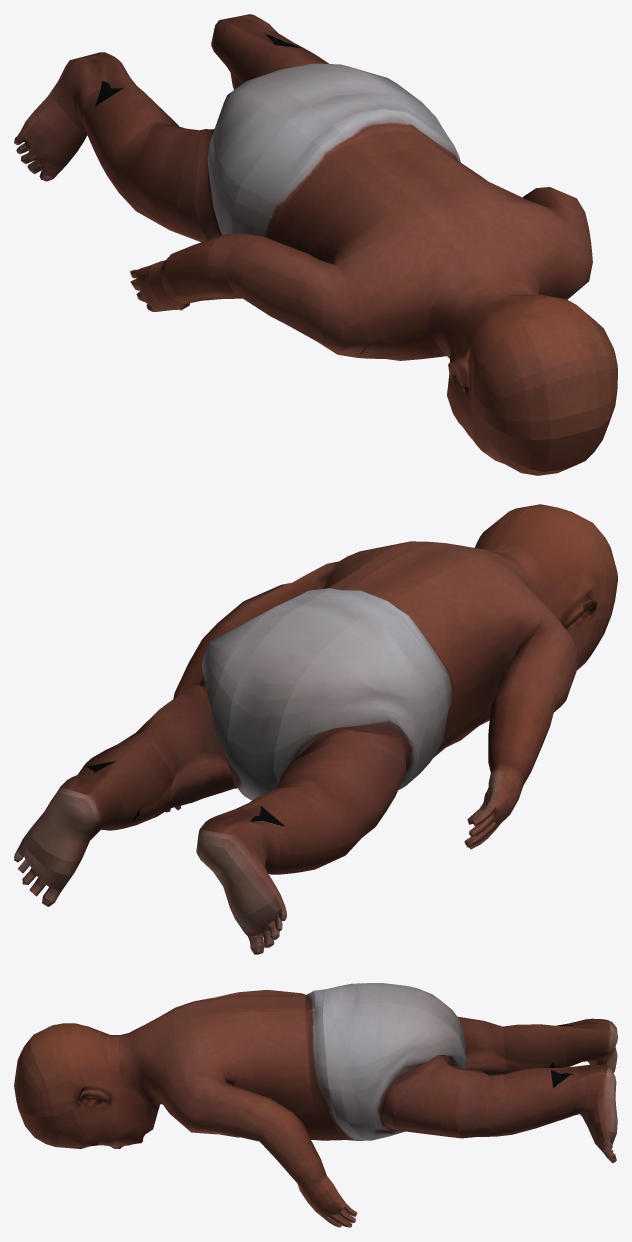
Rendered from beby.fbx.
3 renders of one model, top to bottom at view 1: azimuth 30°, elevation 25°; view 2: azimuth 150°, elevation 25°; view 3: azimuth 270°, elevation 25°, orthographic. The views are drawn at different scales.
Parts seen in each view (by area): view 1: beby; view 2: beby; view 3: beby.
Part boxes in pixels (x1,y1,x2,y2): beby: (14, 14, 617, 475); beby: (14, 504, 617, 954); beby: (14, 983, 617, 1227).
Size of the model in its own units: 12.16 by 7.73 by 23.83.
1 material, 1 textured.
